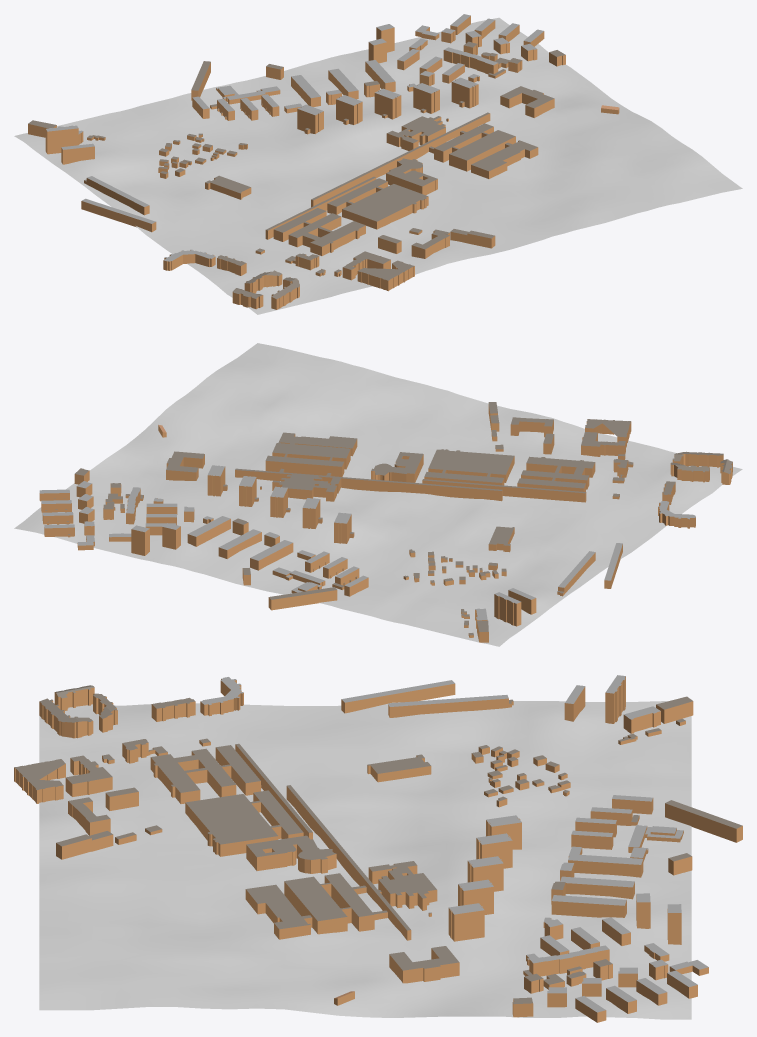
File: coś.fbx
The picture shows the model from 3 angles, top to bottom: view 1: azimuth 30°, elevation 25°; view 2: azimuth 150°, elevation 25°; view 3: azimuth 270°, elevation 25°; orthographic projection. The views are drawn at different scales.
Visible parts, largest first — view 1: Terrain, map.osm_buildings; view 2: Terrain, map.osm_buildings; view 3: Terrain, map.osm_buildings.
Boxes of the visible parts, left/top/right/bottom form: Terrain: left=14, top=17, right=742, bottom=314; map.osm_buildings: left=28, top=14, right=619, bottom=309; Terrain: left=14, top=343, right=742, bottom=646; map.osm_buildings: left=39, top=402, right=732, bottom=642; Terrain: left=39, top=701, right=691, bottom=1019; map.osm_buildings: left=14, top=675, right=742, bottom=1022.
Bounding box in the file's own units: 91185 × 4957 × 82941.
